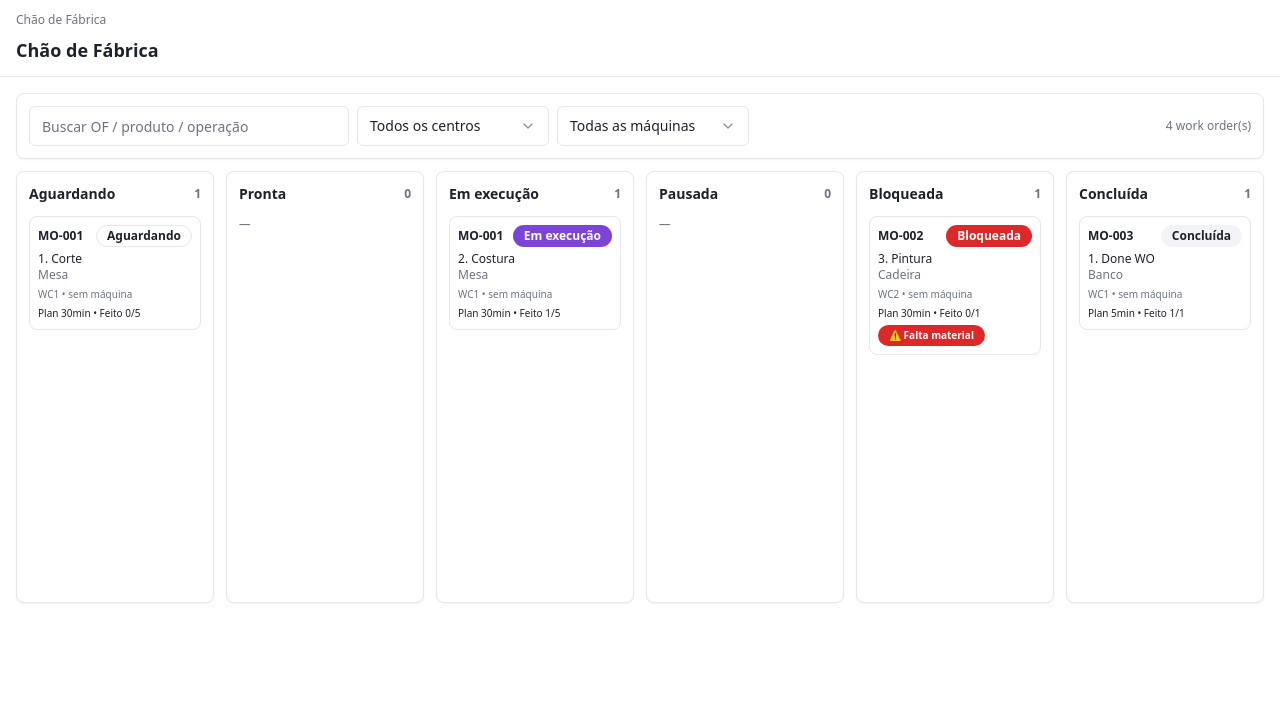
Test: ShopFloorBoard › filters by search term
Step 1. Type "MO-002" into the field with placeholder "Buscar OF / produto / operação" → point(189, 126), box [29,106,349,146]
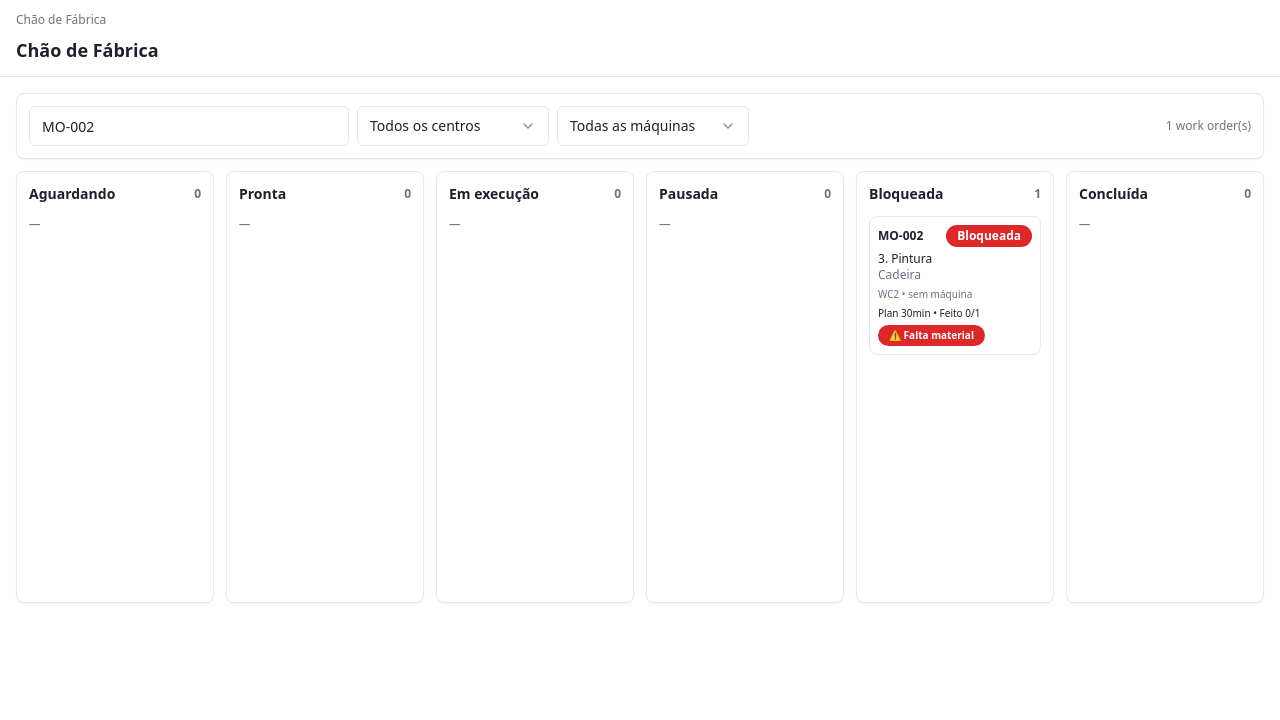
Expected: the text "MO-002" is shown, [878,228,923,244]
Now the link "MO-001" is gone
Now the text "1 work order(s)" is shown, box [1166,118,1251,134]
